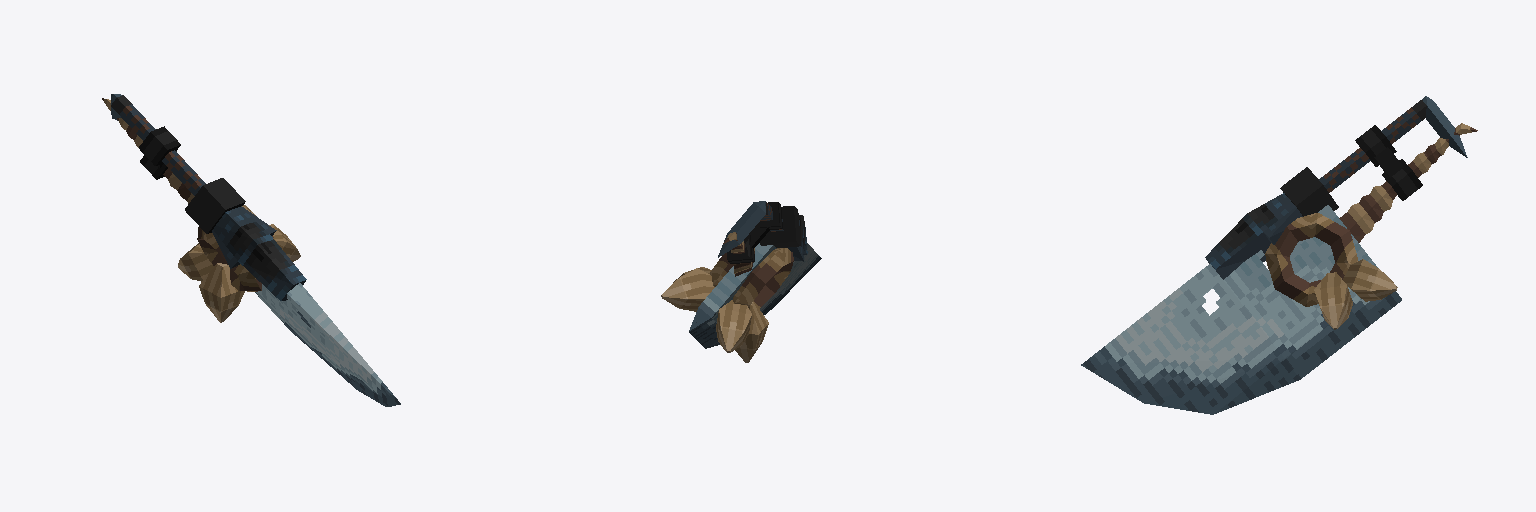
3 renders of one model, left to right at view 1: azimuth 30°, elevation 25°; view 2: azimuth 150°, elevation 25°; view 3: azimuth 270°, elevation 25°, orthographic.
Visible parts, largest first — view 1: GreatSword; view 2: GreatSword; view 3: GreatSword.
Part boxes in pixels (x1,y1,x2,y2): GreatSword: (102, 94, 400, 406); GreatSword: (661, 201, 821, 362); GreatSword: (1081, 96, 1477, 414).
Size of the model in its own units: 1.2 by 2.01 by 2.88.
1 materials, 1 textured.